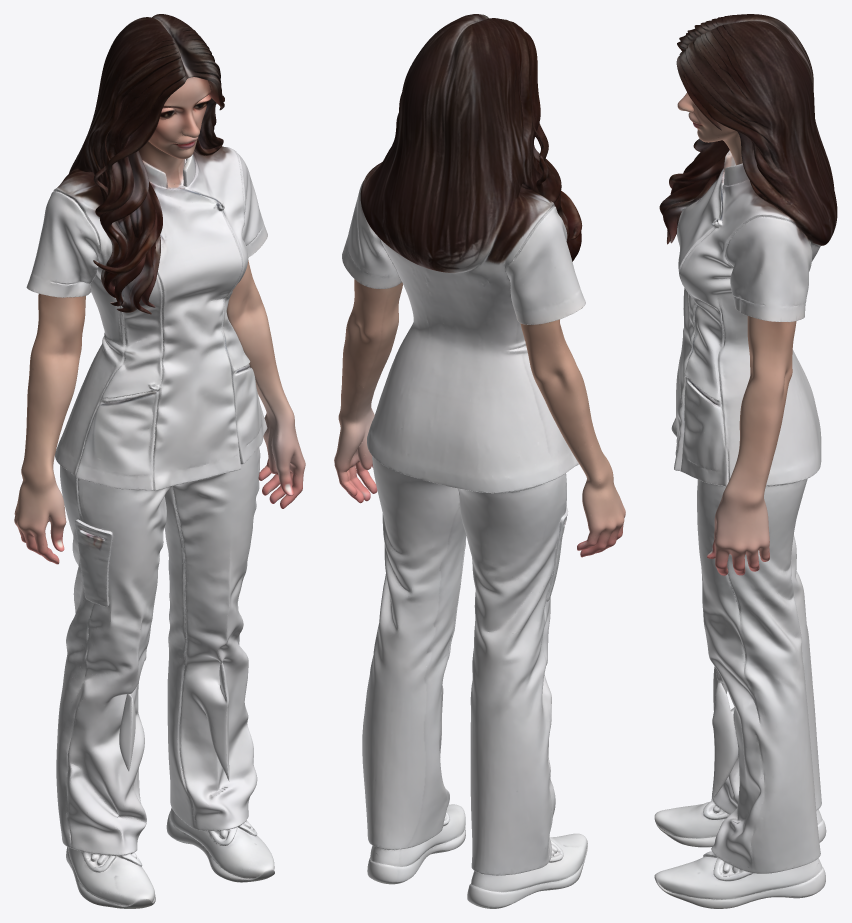
File: base_basic_pbr.glb
3 renders of one model, left to right at view 1: azimuth 30°, elevation 25°; view 2: azimuth 150°, elevation 25°; view 3: azimuth 270°, elevation 25°, orthographic.
Visible parts, largest first — view 1: model; view 2: model; view 3: model.
Boxes of the visible parts, x1,y1,x2,y2 form: model: [14, 14, 305, 908]; model: [334, 14, 625, 908]; model: [654, 14, 837, 908].
Size of the model in its own units: 0.6602 by 1.9 by 0.3703.
1 material, 1 textured.
